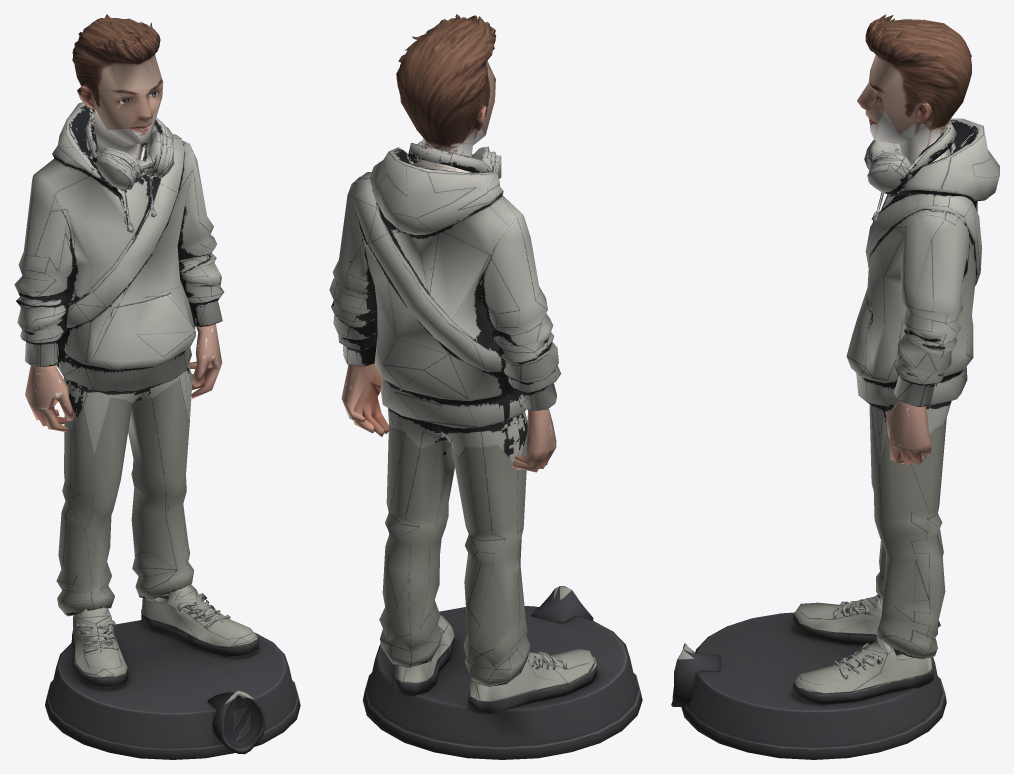
The model's file is selected.glb.
The picture shows the model from 3 angles, left to right: view 1: azimuth 30°, elevation 25°; view 2: azimuth 150°, elevation 25°; view 3: azimuth 270°, elevation 25°; orthographic projection. The views are drawn at different scales.
Parts seen in each view (by area): view 1: tripo_node_719a1010-f7b9-45c7-9979-b695d3198f0a; view 2: tripo_node_719a1010-f7b9-45c7-9979-b695d3198f0a; view 3: tripo_node_719a1010-f7b9-45c7-9979-b695d3198f0a.
Part boxes in pixels (<box>): tripo_node_719a1010-f7b9-45c7-9979-b695d3198f0a: <box>14,14,300,759</box>; tripo_node_719a1010-f7b9-45c7-9979-b695d3198f0a: <box>329,14,642,759</box>; tripo_node_719a1010-f7b9-45c7-9979-b695d3198f0a: <box>671,14,999,759</box>.
Size of the model in its own units: 0.3535 by 0.998 by 0.4355.
Materials: 1 (1 with a texture image).
